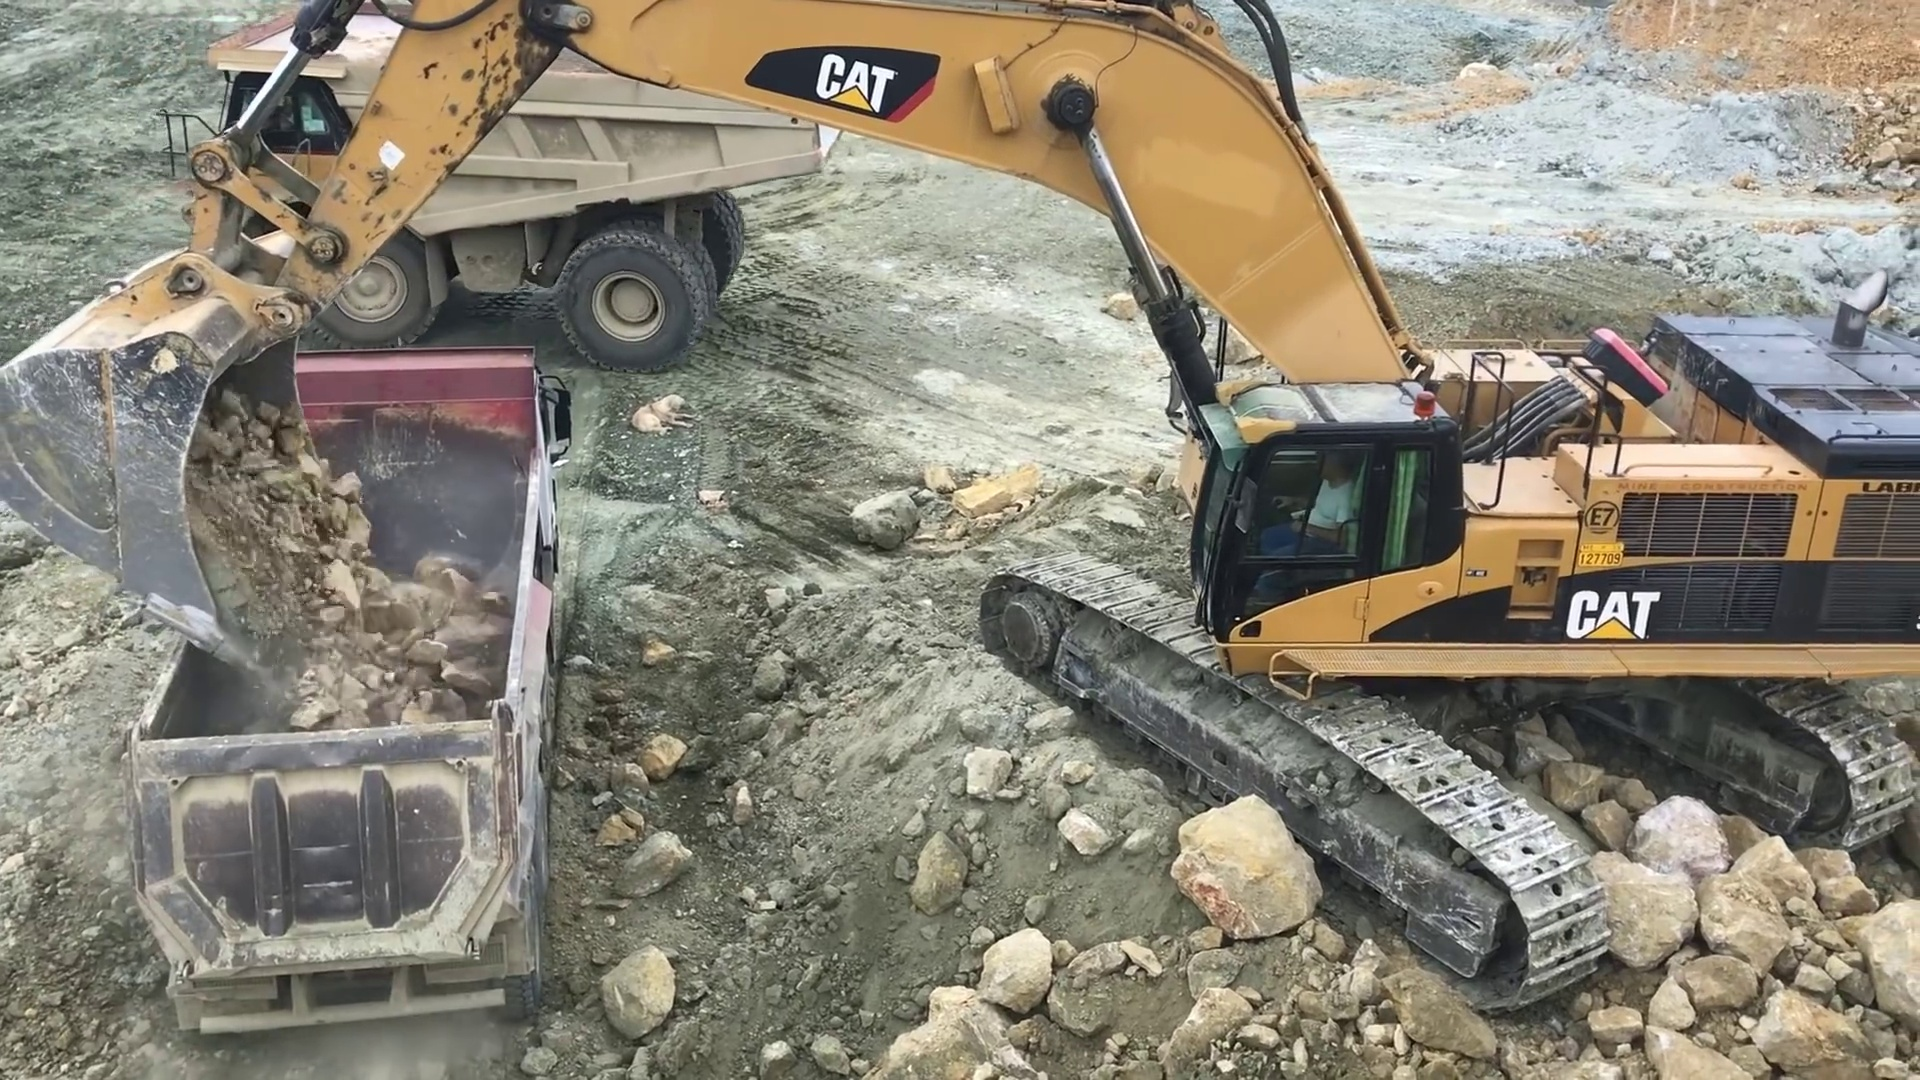dumper: (204, 18, 847, 375)
excavator: (1, 9, 1920, 1025)
truck: (133, 336, 564, 1023)
